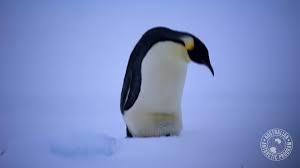emporer: (117, 22, 220, 143)
